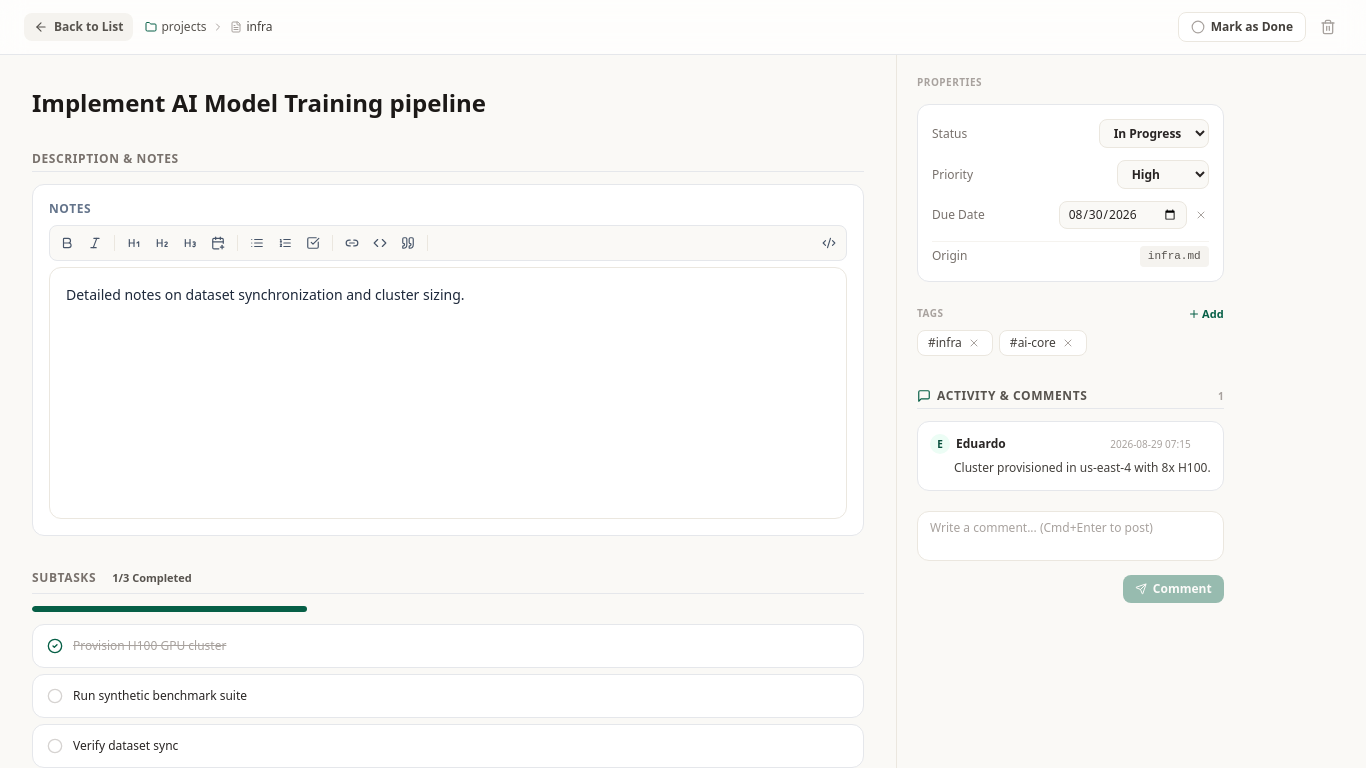
Scenario: TaskDetailPage Component › posts a new comment and adds it to the activity timeline
Step 1. Type "Dataset sync verified successfully." into the text box with test id "new-comment-textarea" → (1070, 536), box [917,510,1224,560]
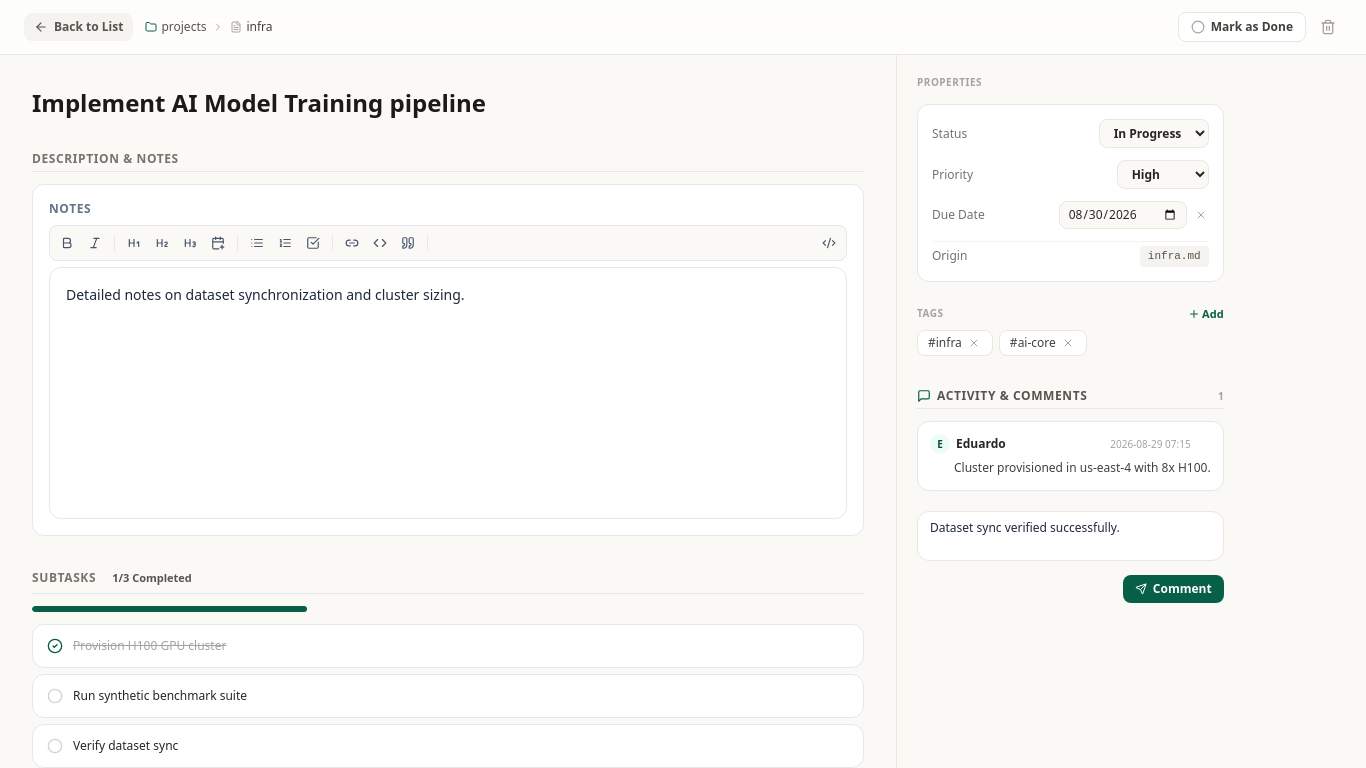
Expected: the button with test id "post-comment-btn" is enabled
Step 2. Click the button with test id "post-comment-btn" → (1173, 588), box [1123,574,1224,602]
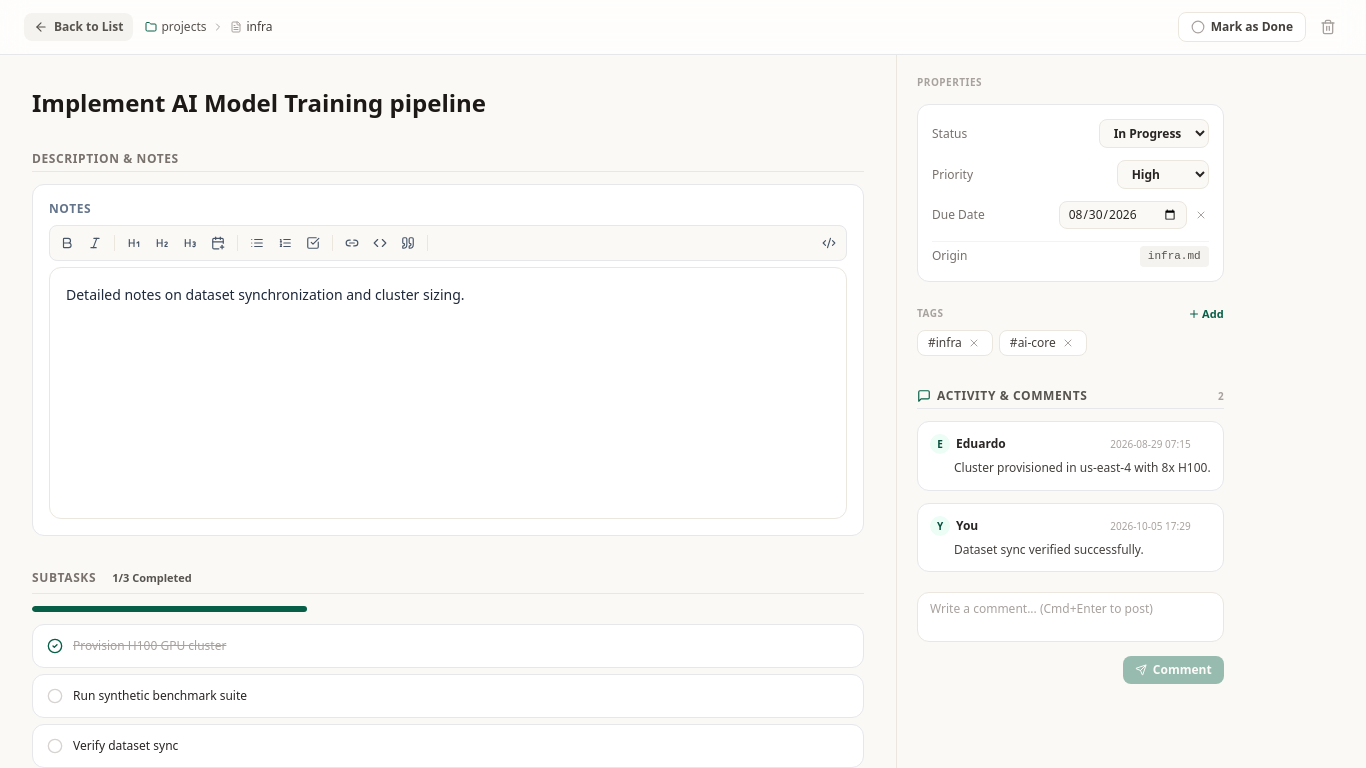
Expected: the text "Dataset sync verified successfully." is shown, [954,540,1144,558]
Expected: the text "You" is shown, [956,518,978,534]
